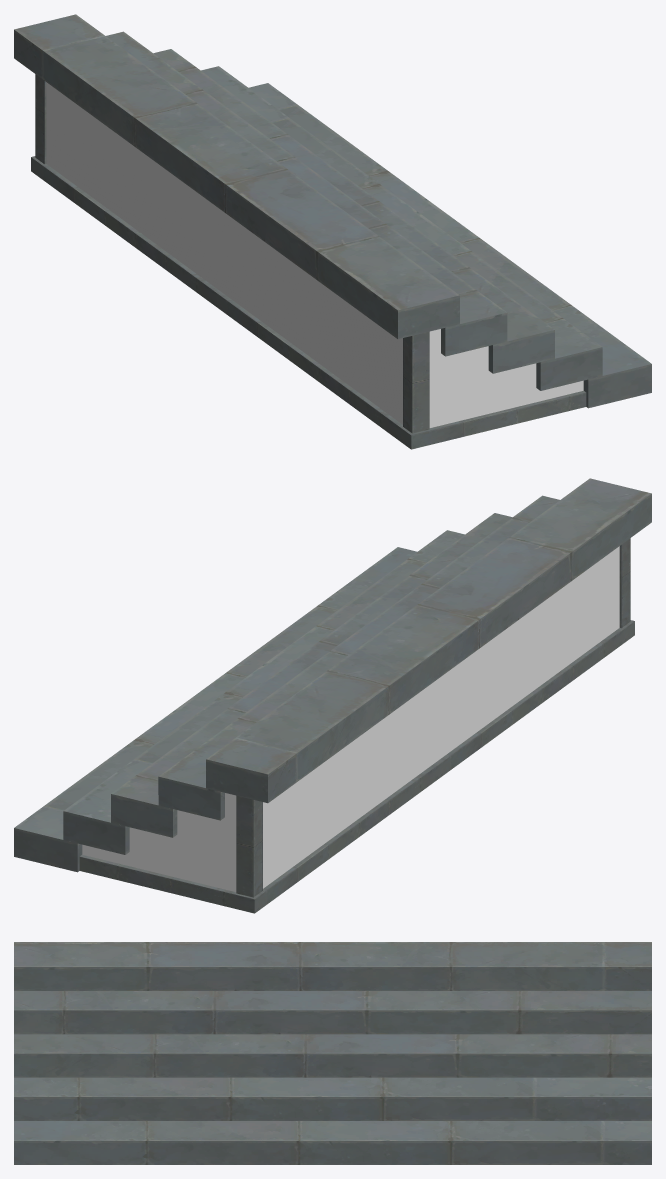
Rendered from Homeworld_Exterior_Common_Thing_Stairs_Marble_01_Vo.fbx.
3 renders of one model, top to bottom at view 1: azimuth 30°, elevation 25°; view 2: azimuth 150°, elevation 25°; view 3: azimuth 270°, elevation 25°, orthographic. The views are drawn at different scales.
Parts seen in each view (by area): view 1: Homeworld_Exterior_Common_Thing_Stairs_Marble_01_Vo; view 2: Homeworld_Exterior_Common_Thing_Stairs_Marble_01_Vo; view 3: Homeworld_Exterior_Common_Thing_Stairs_Marble_01_Vo.
Part boxes in pixels (x1,y1,x2,y2): Homeworld_Exterior_Common_Thing_Stairs_Marble_01_Vo: (14,14,651,449); Homeworld_Exterior_Common_Thing_Stairs_Marble_01_Vo: (14,478,651,913); Homeworld_Exterior_Common_Thing_Stairs_Marble_01_Vo: (14,942,651,1164).
Size of the model in its own units: 1.91 by 1.04 by 5.
Materials: 2 (1 with a texture image).
